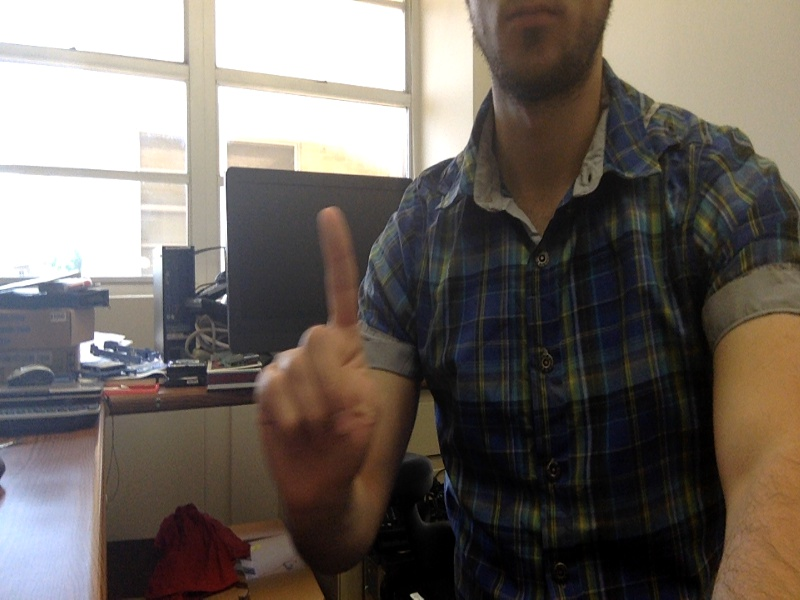1-hand: (255, 208, 376, 524)
